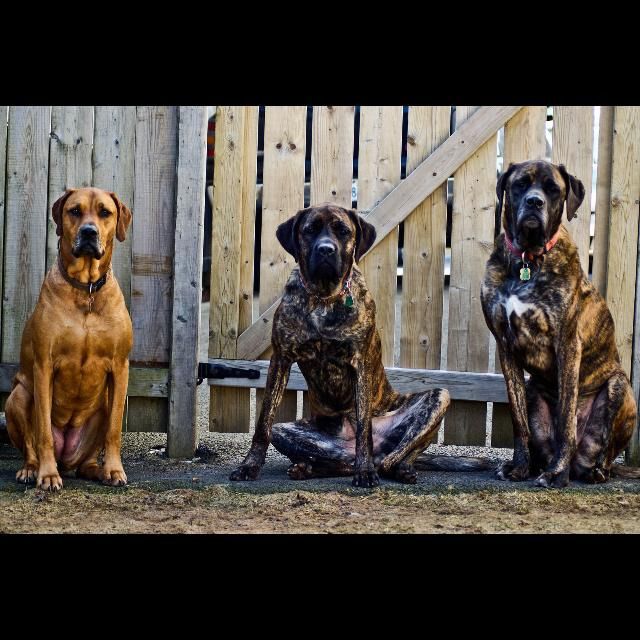other_dog_breed: (229, 203, 491, 489), (481, 160, 639, 491), (6, 187, 135, 493)
